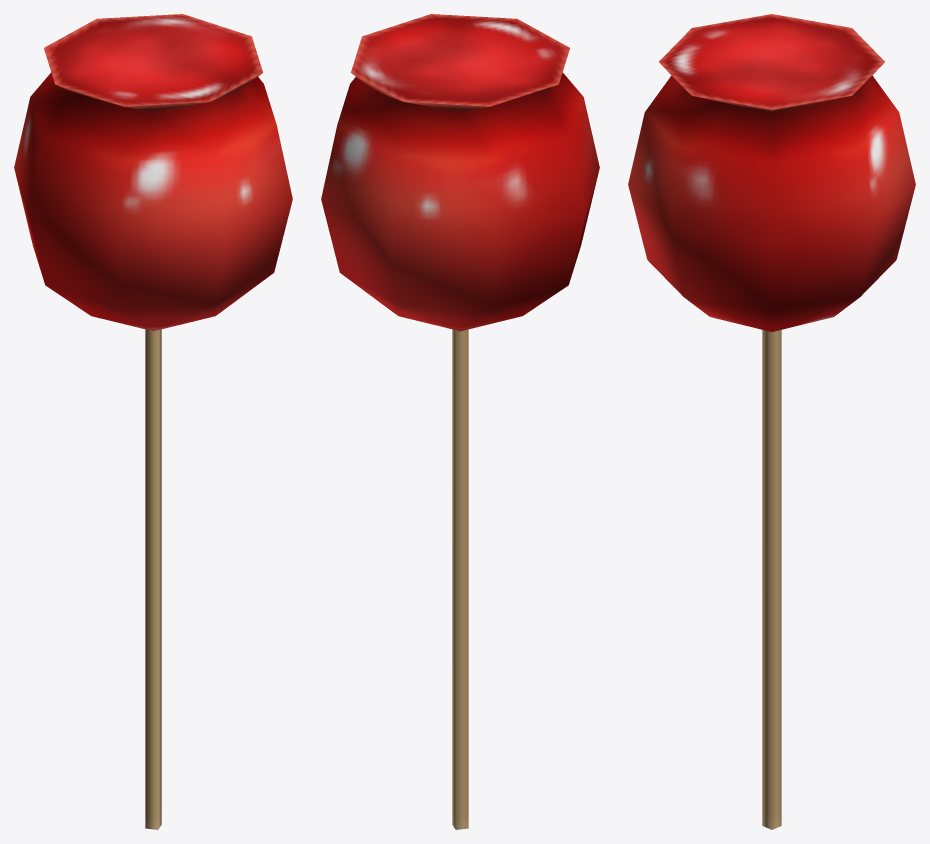
Rendered from jsf_Apple_03.fbx.
3 views of the same model, side by side, from view 1: azimuth 30°, elevation 25°; view 2: azimuth 150°, elevation 25°; view 3: azimuth 270°, elevation 25° (orthographic).
Visible parts, largest first — view 1: jsf_Apple_03; view 2: jsf_Apple_03; view 3: jsf_Apple_03.
Part boxes in pixels (<box>): jsf_Apple_03: <box>14,14,292,829</box>; jsf_Apple_03: <box>321,14,599,829</box>; jsf_Apple_03: <box>628,14,915,829</box>.
Bounding box in the file's own units: 6.42 × 18.79 × 6.42.
